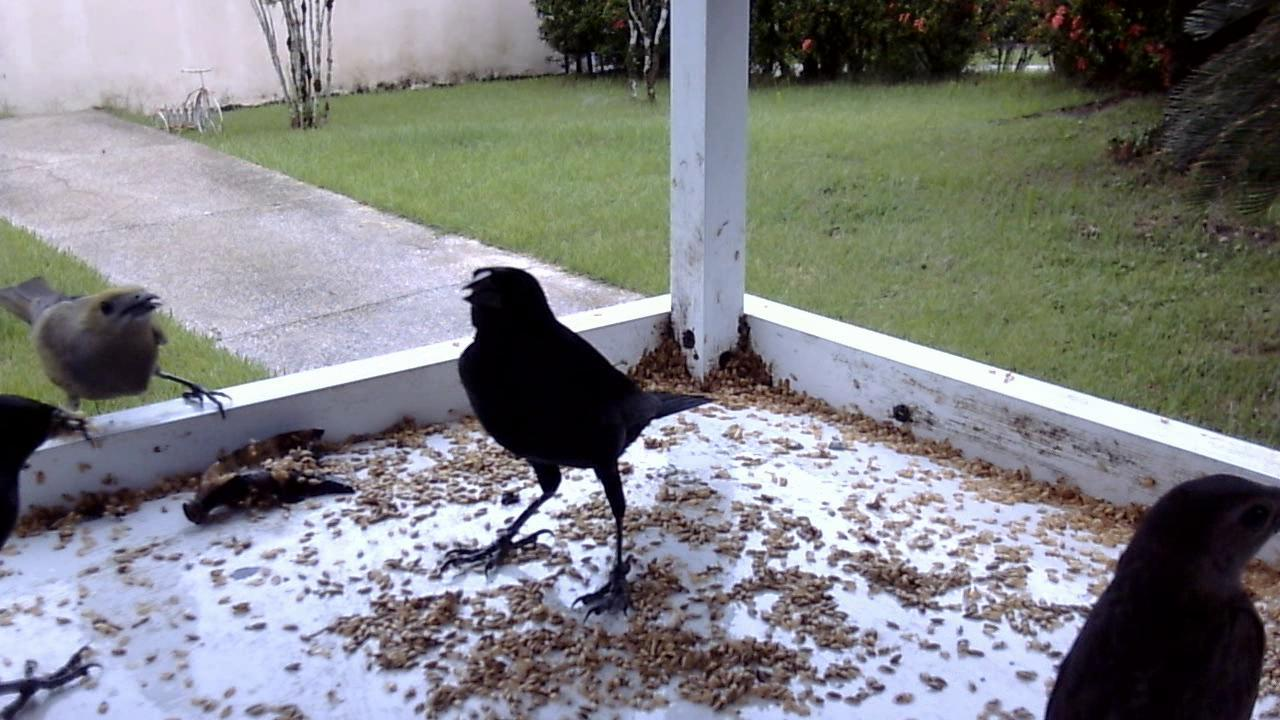canario_do_amazonas: (1, 263, 238, 467)
chupim: (430, 256, 725, 623), (1030, 458, 1280, 715), (1, 389, 110, 720)
